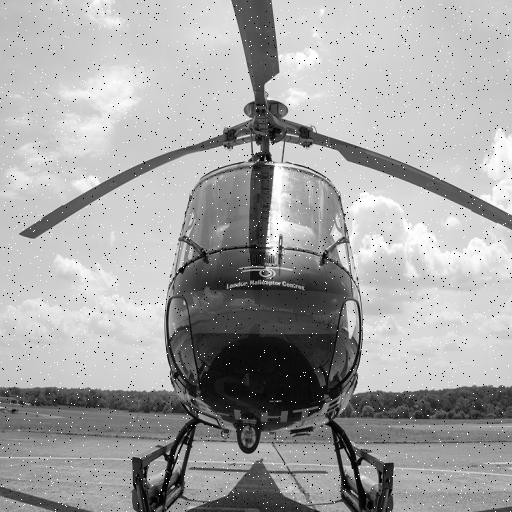helicopter: (52, 1, 458, 512)
